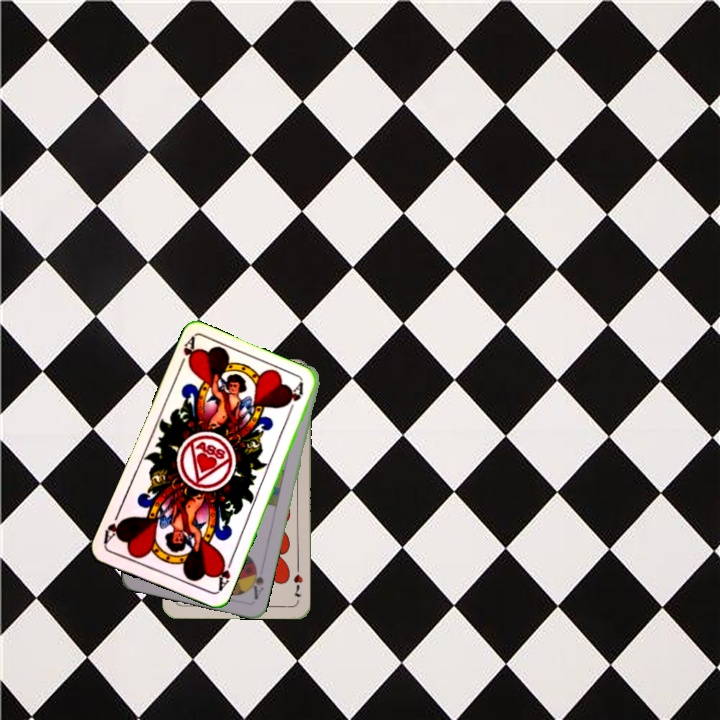H7: (289, 562, 305, 600)
HA: (174, 334, 199, 373), (212, 554, 235, 595)
SA: (246, 562, 266, 602)
